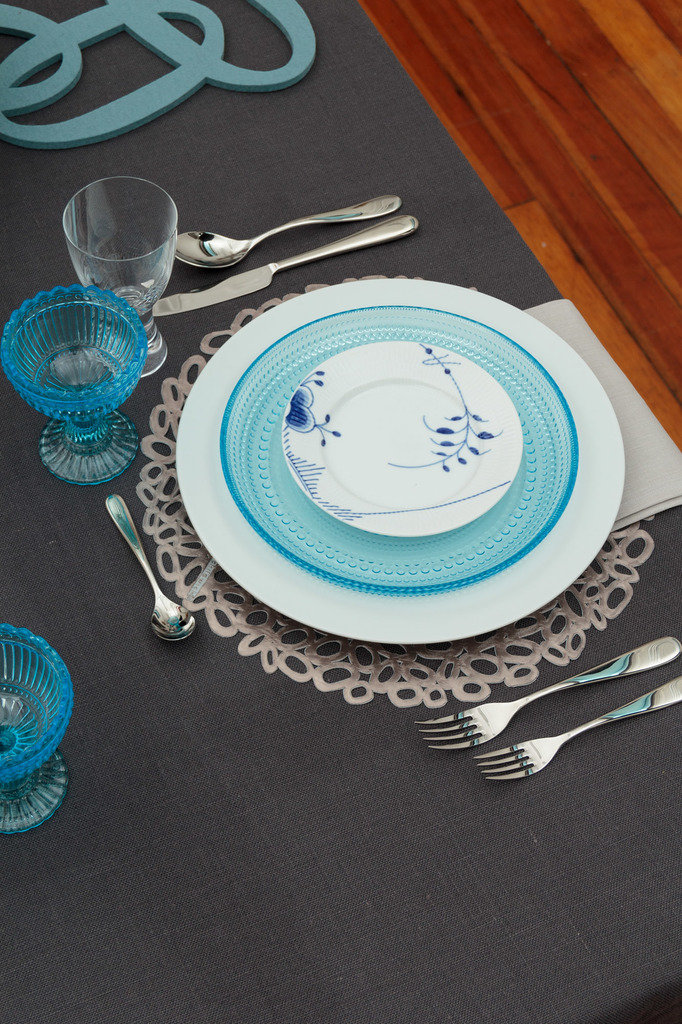plate: (276, 337, 521, 535)
